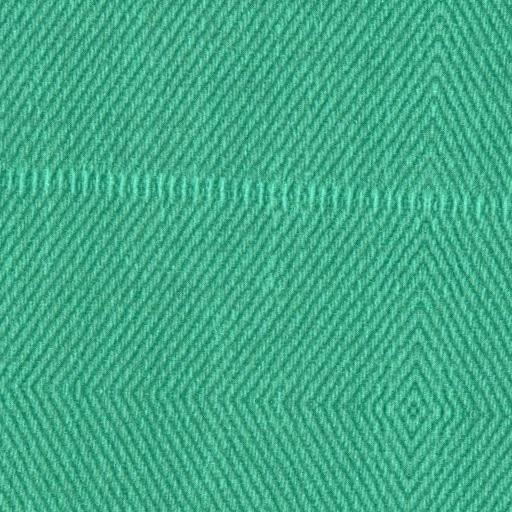slub: (0, 157, 512, 241)
